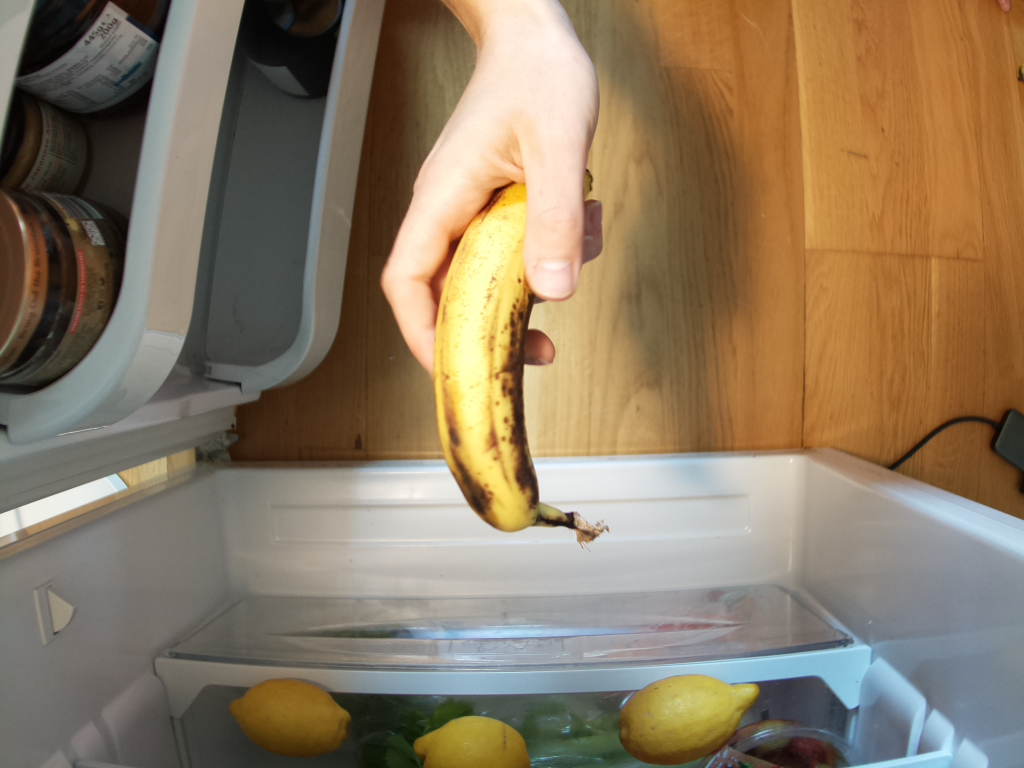banana-overripe: (433, 168, 608, 542)
